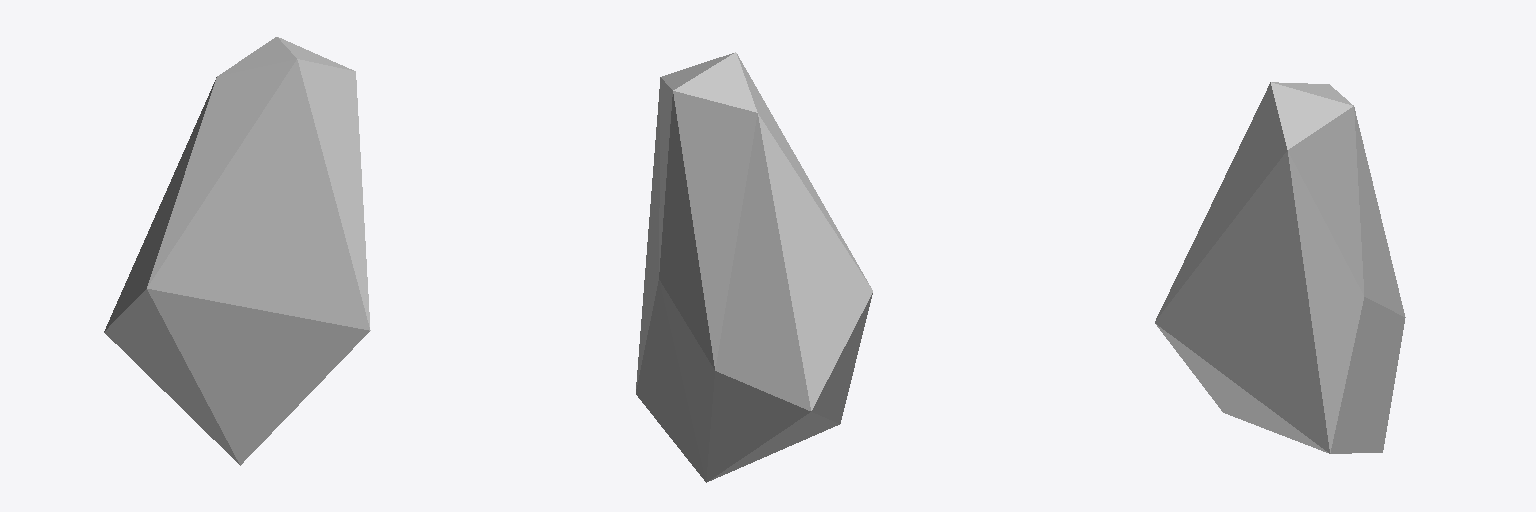
The model's file is stone_2.obj.
3 views of the same model, side by side, from view 1: azimuth 30°, elevation 25°; view 2: azimuth 150°, elevation 25°; view 3: azimuth 270°, elevation 25° (orthographic).
Parts seen in each view (by area): view 1: Stone_2_Icosphere.003; view 2: Stone_2_Icosphere.003; view 3: Stone_2_Icosphere.003.
Part boxes in pixels (left/top/right/bottom): Stone_2_Icosphere.003: left=104, top=37, right=370, bottom=465; Stone_2_Icosphere.003: left=636, top=52, right=872, bottom=482; Stone_2_Icosphere.003: left=1155, top=82, right=1405, bottom=453.
Size of the model in its own units: 1.2 by 2.04 by 1.21.